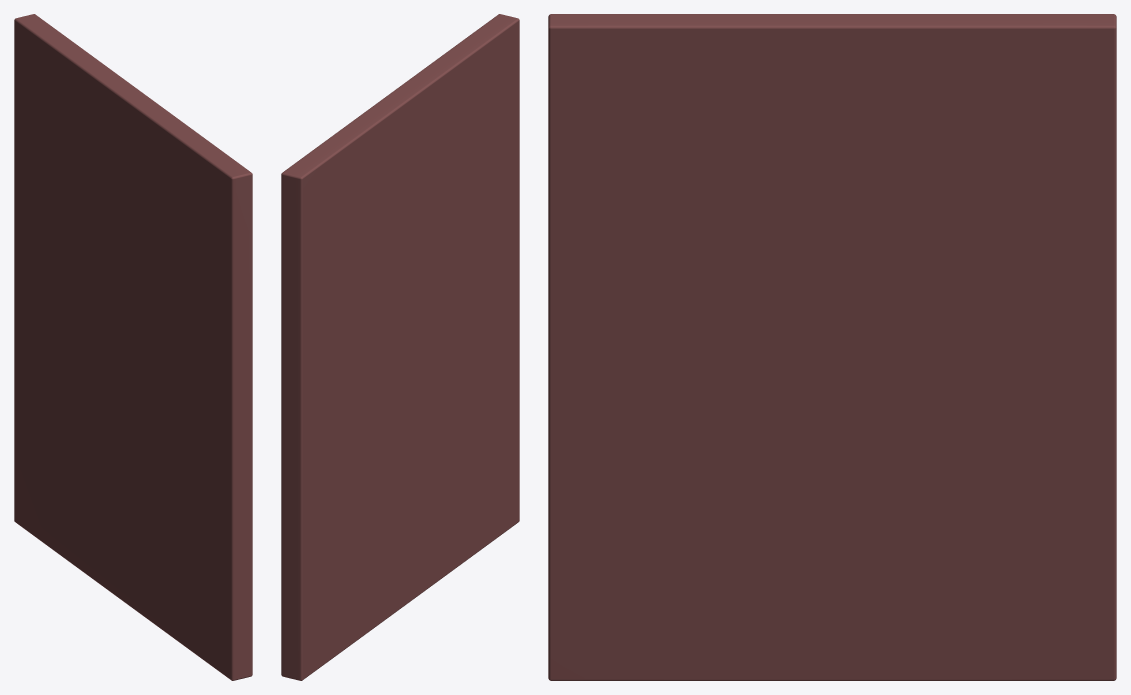
File: Canvas_Large.fbx
3 views of the same model, side by side, from view 1: azimuth 30°, elevation 25°; view 2: azimuth 150°, elevation 25°; view 3: azimuth 270°, elevation 25° (orthographic). The views are drawn at different scales.
Visible parts, largest first — view 1: LargeCanvas_High; view 2: LargeCanvas_High; view 3: LargeCanvas_High.
Part boxes in pixels (x1,y1,x2,y2): LargeCanvas_High: (14, 14, 252, 680); LargeCanvas_High: (281, 14, 519, 680); LargeCanvas_High: (548, 14, 1116, 680).
Size of the model in its own units: 0.2141 by 4.76 by 3.74.
